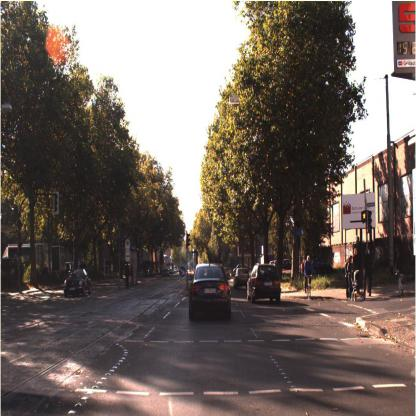mandatory: (176, 262, 187, 284)
